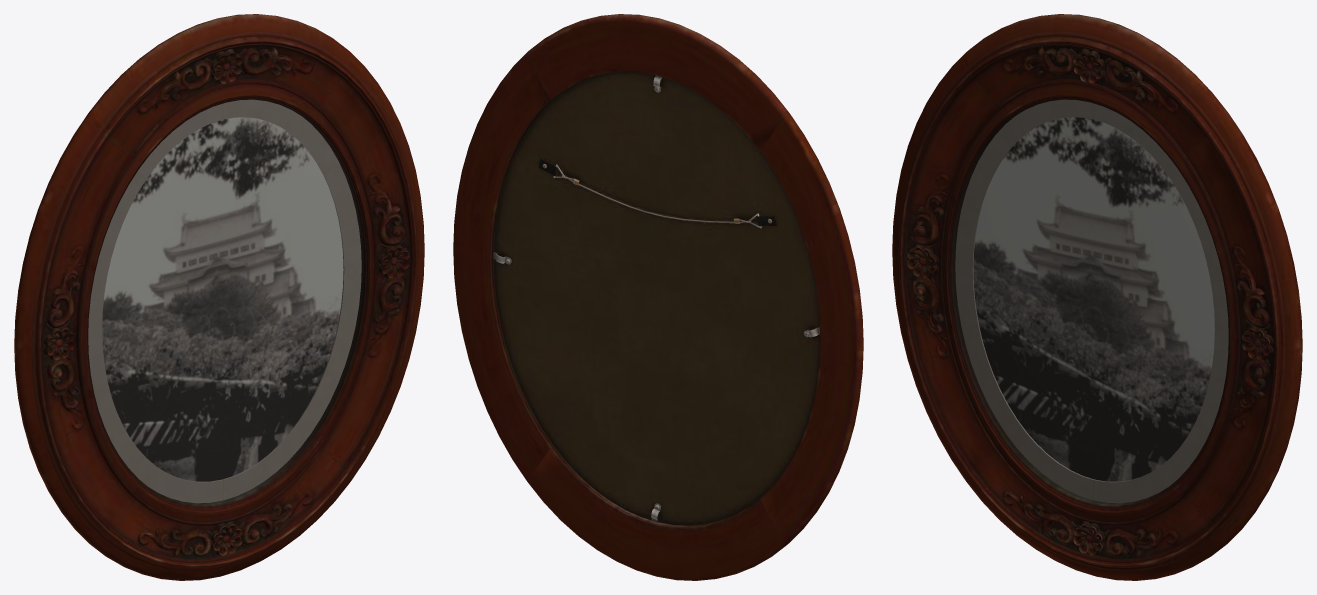
Rendered from picture-oval.glb.
The picture shows the model from 3 angles, left to right: view 1: azimuth 30°, elevation 25°; view 2: azimuth 150°, elevation 25°; view 3: azimuth 330°, elevation 25°; orthographic projection.
Parts seen in each view (by area): view 1: hanging_picture_frame_03, hanging_picture_frame_03_glass; view 2: hanging_picture_frame_03; view 3: hanging_picture_frame_03, hanging_picture_frame_03_glass.
Boxes of the visible parts, x1,y1,x2,y2 form: hanging_picture_frame_03: [14, 14, 424, 580]; hanging_picture_frame_03_glass: [88, 100, 363, 504]; hanging_picture_frame_03: [453, 14, 863, 580]; hanging_picture_frame_03: [892, 14, 1302, 580]; hanging_picture_frame_03_glass: [953, 100, 1228, 504].
Size of the model in its own units: 0.385 by 0.5024 by 0.0318.
3 materials, 2 textured.
